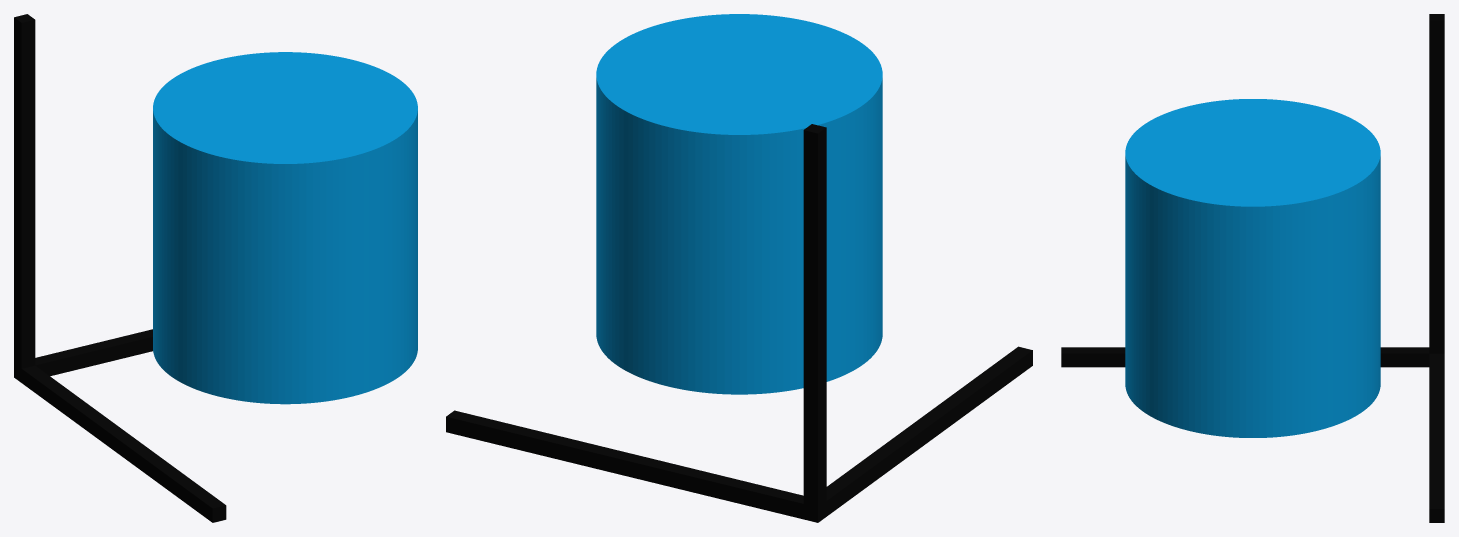
Rendered from cilindro.gltf.
3 renders of one model, left to right at view 1: azimuth 30°, elevation 25°; view 2: azimuth 150°, elevation 25°; view 3: azimuth 270°, elevation 25°, orthographic. The views are drawn at different scales.
Size of the model in its own units: 0.06 by 0.06 by 0.06.
